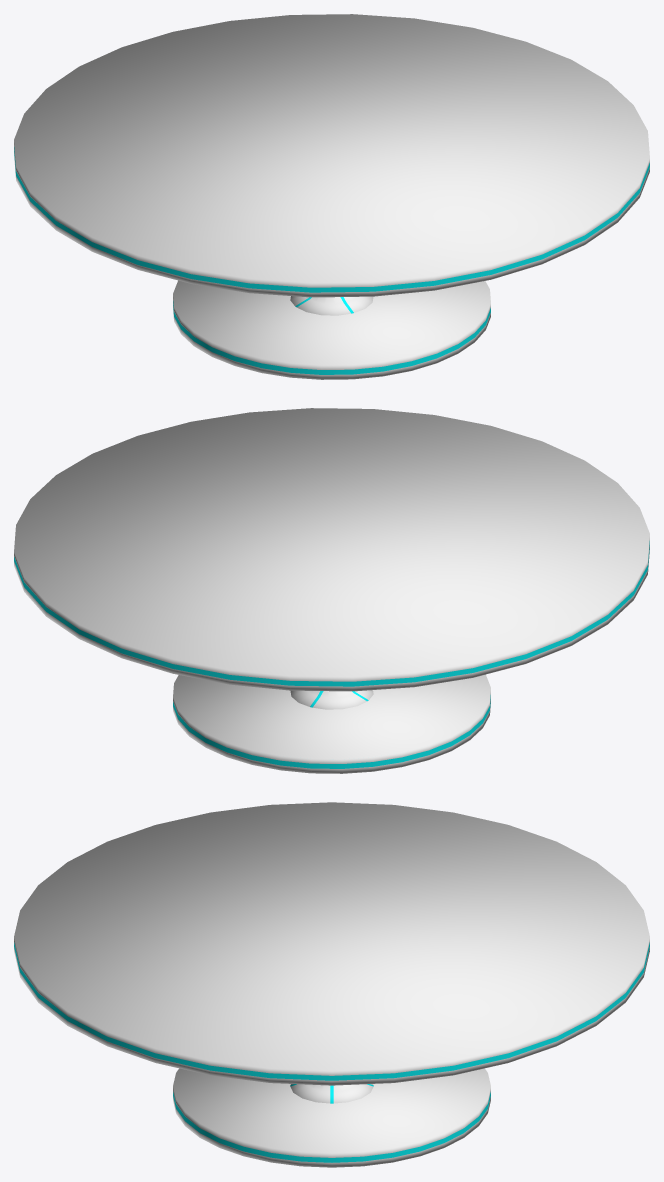
The model's file is Round Table - Short.fbx.
The picture shows the model from 3 angles, top to bottom: view 1: azimuth 30°, elevation 25°; view 2: azimuth 150°, elevation 25°; view 3: azimuth 270°, elevation 25°; orthographic projection.
Visible parts, largest first — view 1: Cylinder.001; view 2: Cylinder.001; view 3: Cylinder.001.
Part boxes in pixels (<box>): Cylinder.001: <box>14,14,649,379</box>; Cylinder.001: <box>14,408,649,773</box>; Cylinder.001: <box>14,802,649,1167</box>.
Bounding box in the file's own units: 9.81 × 9.81 × 2.79.
